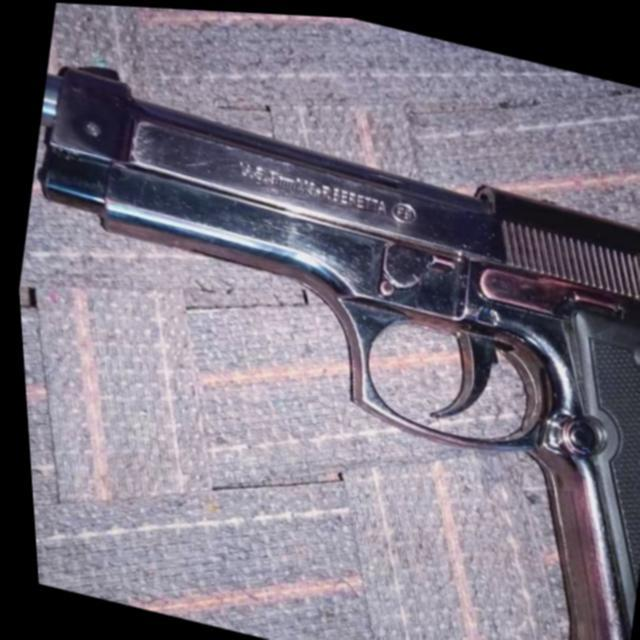weapon: (2, 43, 640, 640)
